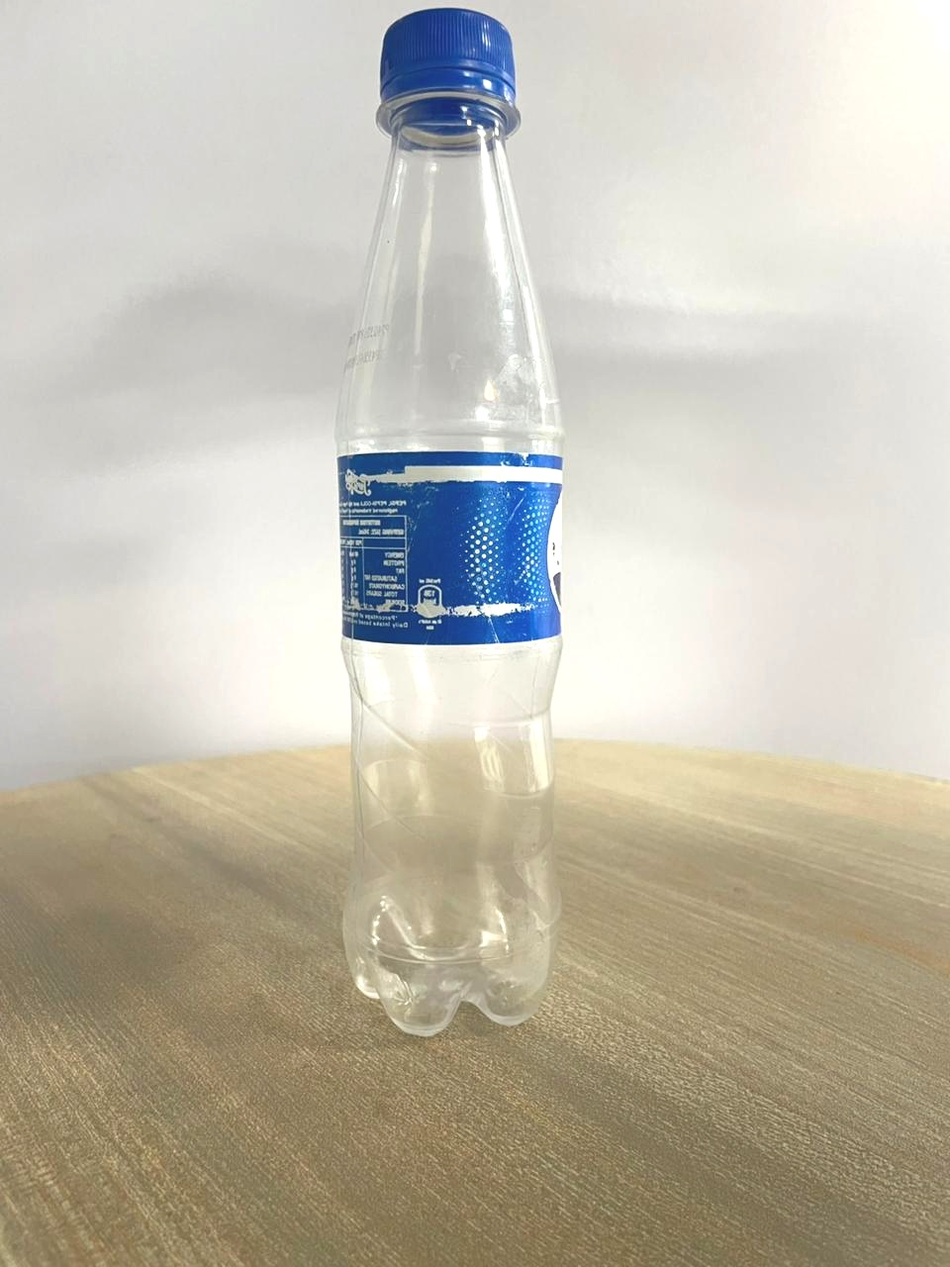Pepsi Bottle: (323, 5, 584, 1047), (325, 5, 584, 1041)
